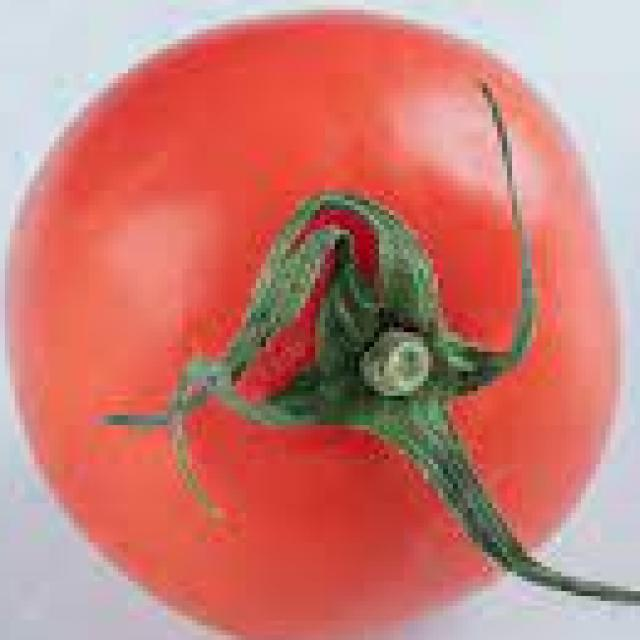Healthy: (20, 8, 617, 622)
